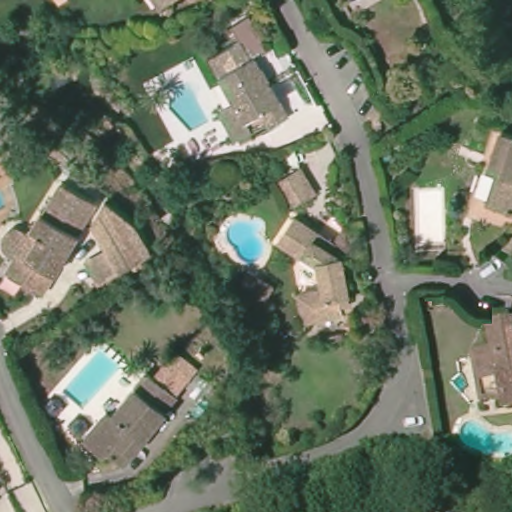pool: (59, 348, 121, 412), (218, 218, 271, 266), (451, 416, 512, 457), (165, 82, 212, 135)
